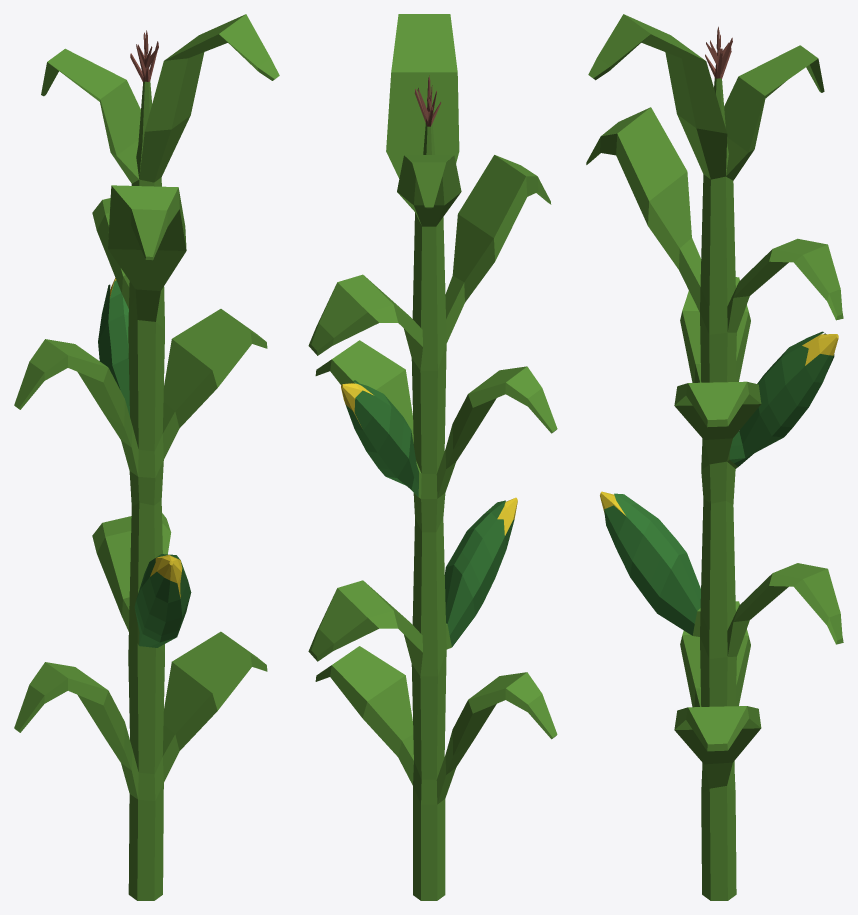
File: 1-5_corn.glb
3 renders of one model, left to right at view 1: azimuth 30°, elevation 25°; view 2: azimuth 150°, elevation 25°; view 3: azimuth 270°, elevation 25°, orthographic. The views are drawn at different scales.
Parts seen in each view (by area): view 1: corn; view 2: corn; view 3: corn.
Boxes of the visible parts, x1,y1,x2,y2 form: corn: [14, 14, 279, 900]; corn: [308, 14, 557, 900]; corn: [586, 14, 843, 900].
Bounding box in the file's own units: 0.683 × 2.35 × 0.6139.
